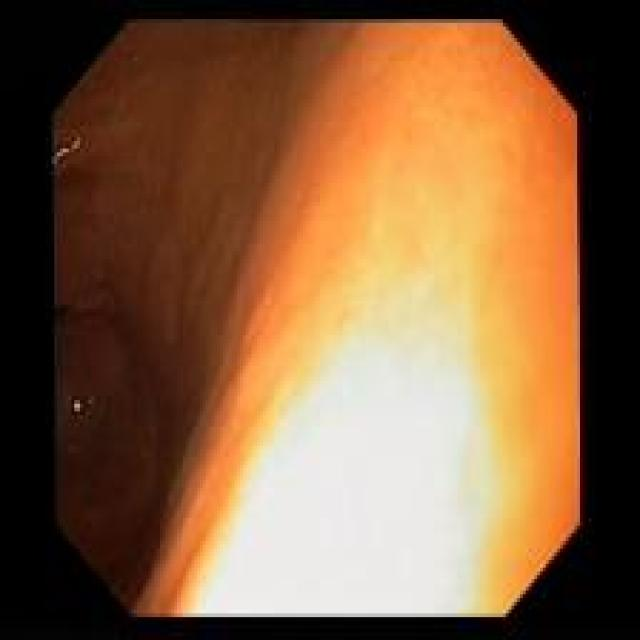contrast: (52, 24, 173, 608)
saturation: (157, 263, 581, 615), (280, 21, 578, 263)
specularity: (70, 395, 87, 424)
